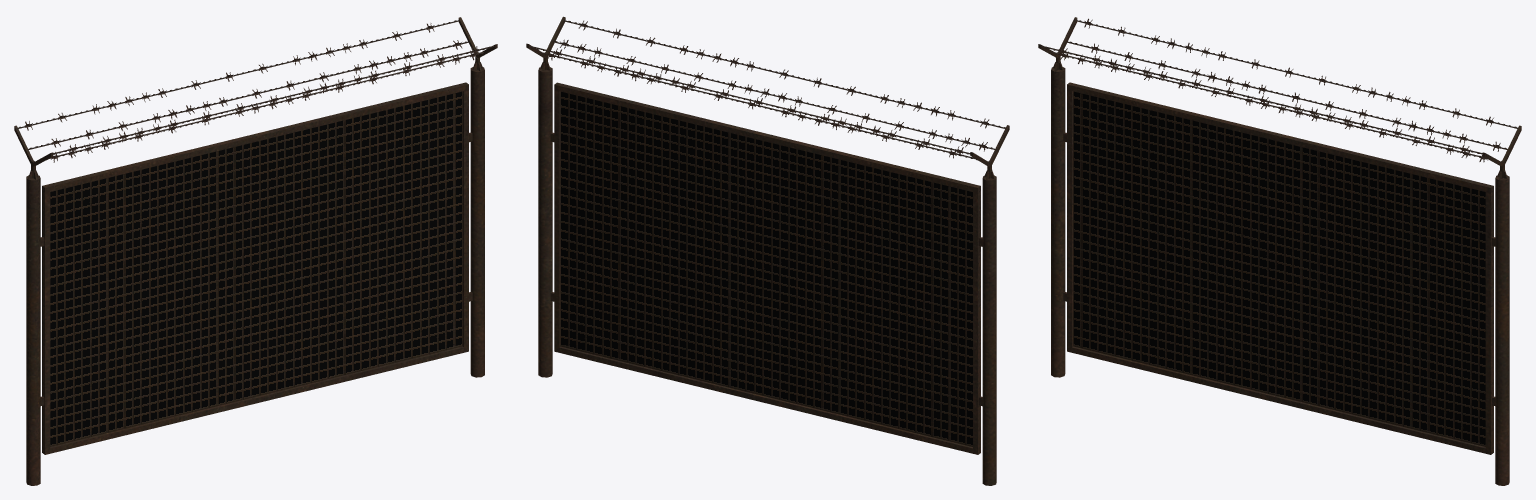
The model's file is fence_e_2.obj.
The picture shows the model from 3 angles, left to right: view 1: azimuth 30°, elevation 25°; view 2: azimuth 150°, elevation 25°; view 3: azimuth 330°, elevation 25°; orthographic projection.
Visible parts, largest first — view 1: fence_e_2; view 2: fence_e_2; view 3: fence_e_2.
Boxes of the visible parts, bbox=[...] form: fence_e_2: bbox=[14, 17, 497, 485]; fence_e_2: bbox=[526, 16, 1009, 485]; fence_e_2: bbox=[1038, 17, 1521, 485].
Bounding box in the file's own units: 3.6 × 2.61 × 0.5551.
